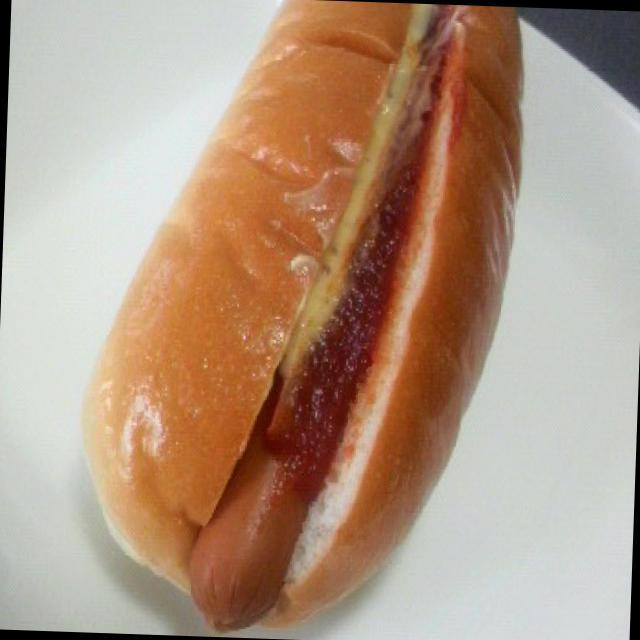Hot Dog: (62, 0, 542, 640)
